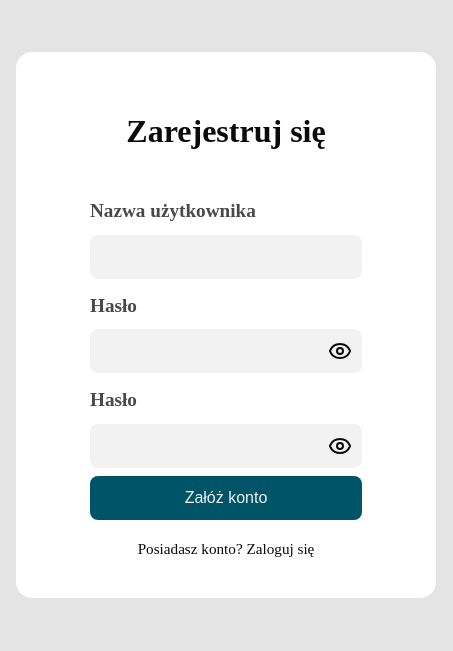
it: Signup › validate empty form
The image size is (453, 651).
Click the button "Załóż konto".
click(226, 498)  # box [90,476,362,520]
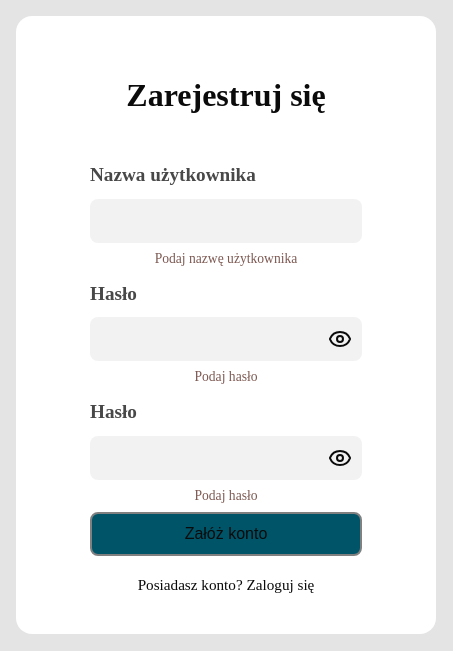
Result: the text "Podaj nazwę użytkownika" is shown at [155,250,297,266]
Result: the text "Podaj hasło" is shown 2 times at [194,369,258,384]; [194,488,258,503]
